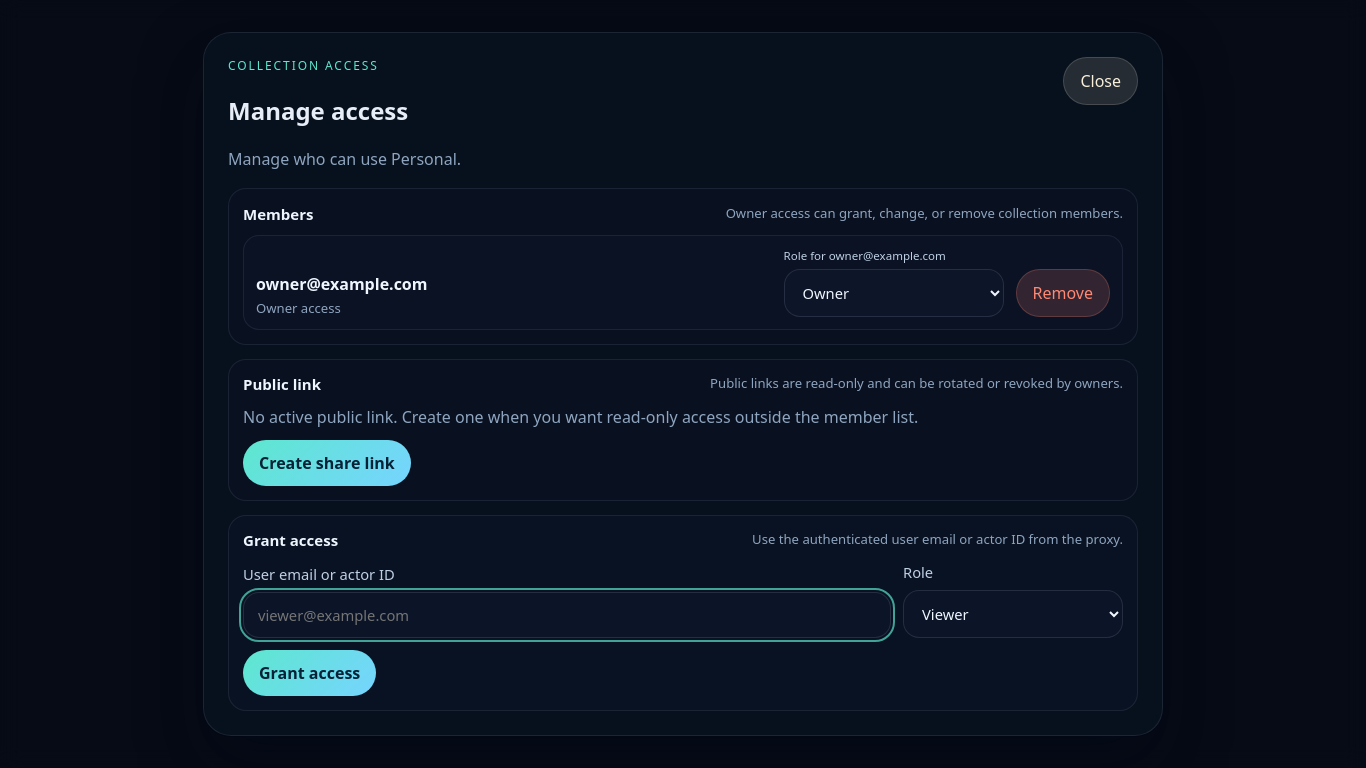
Scenario: InventoryAccessDialog › loads members and grants access to a new actor
Expected: the text "owner@example.com" is shown, [256,273,428,295]
Type "new-viewer@example.com" into the field labelled "User email or actor ID" at (567, 615), box [243,592,891,638]
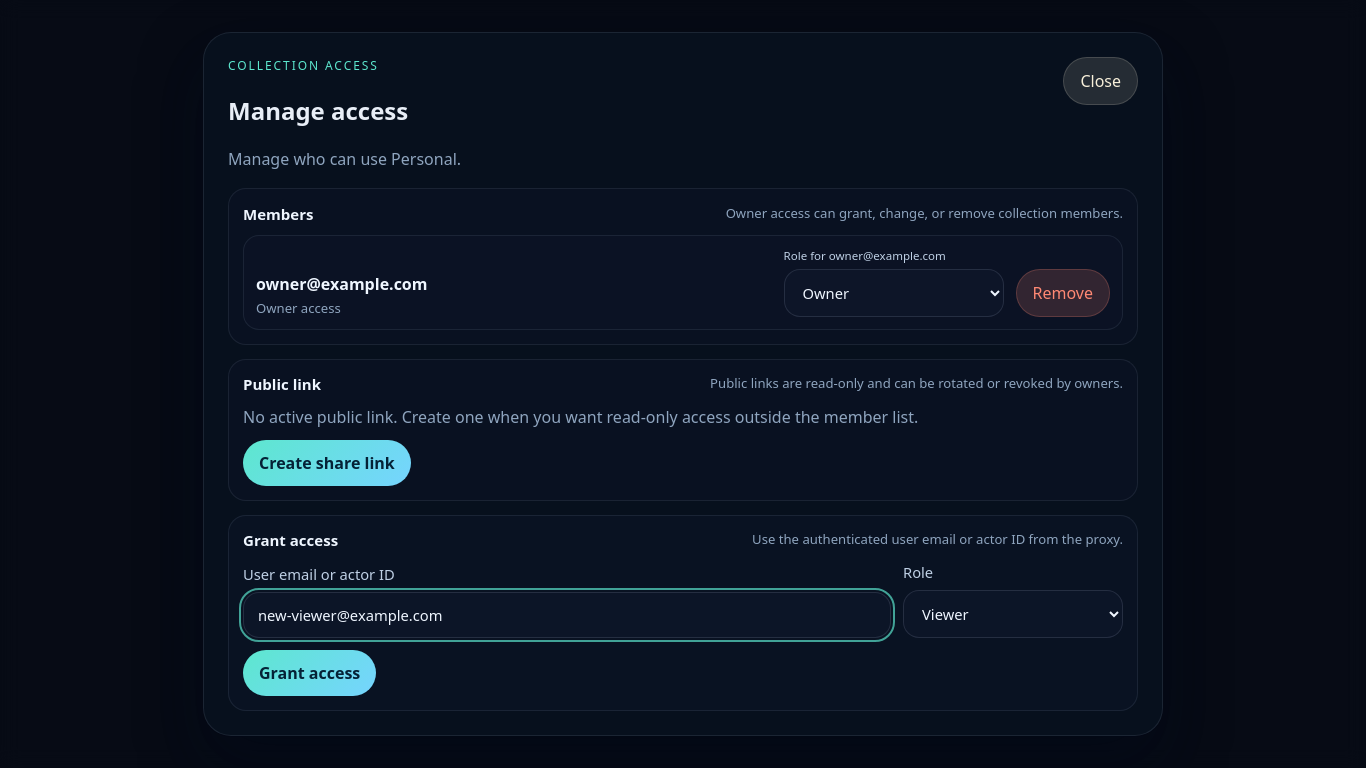
Click the button "Grant access" at (310, 673), box [243,650,376,696]
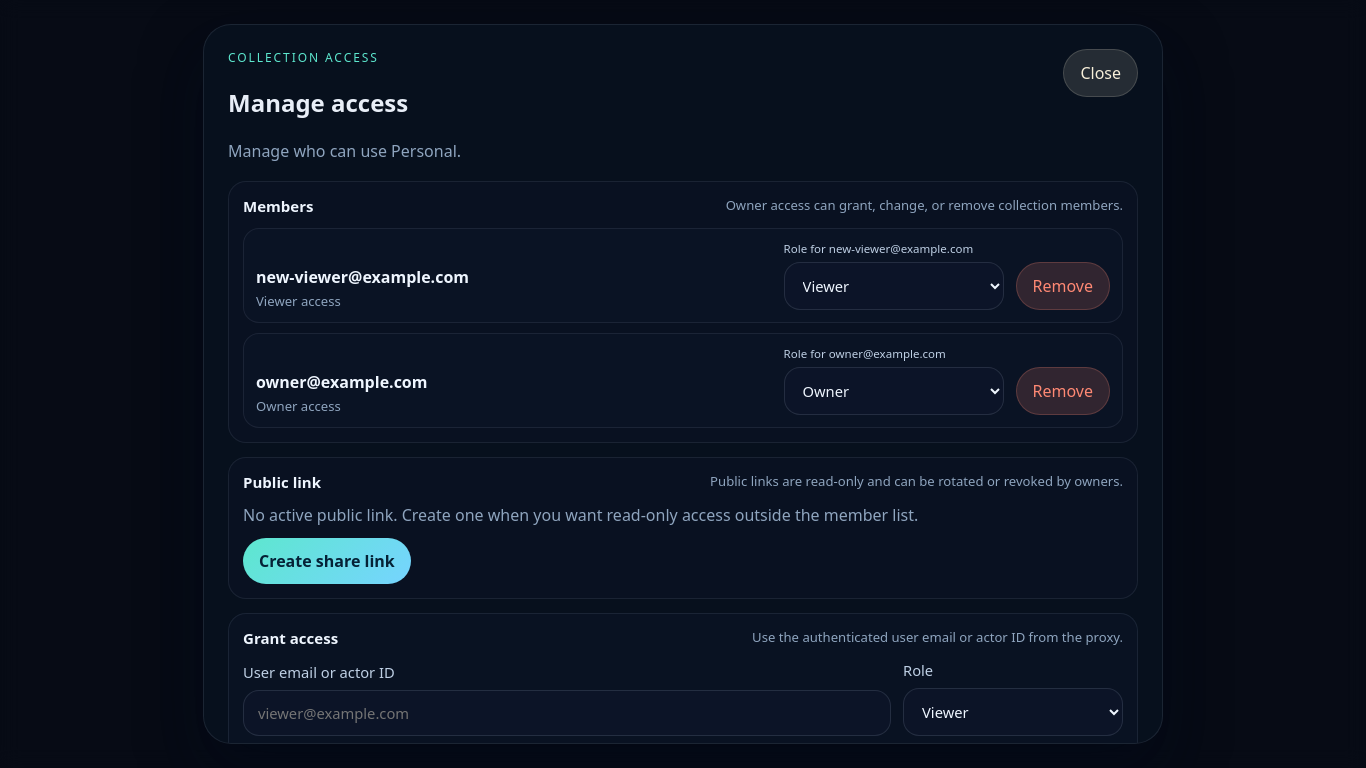
Result: the text "new-viewer@example.com" is shown at [256,266,469,288]
